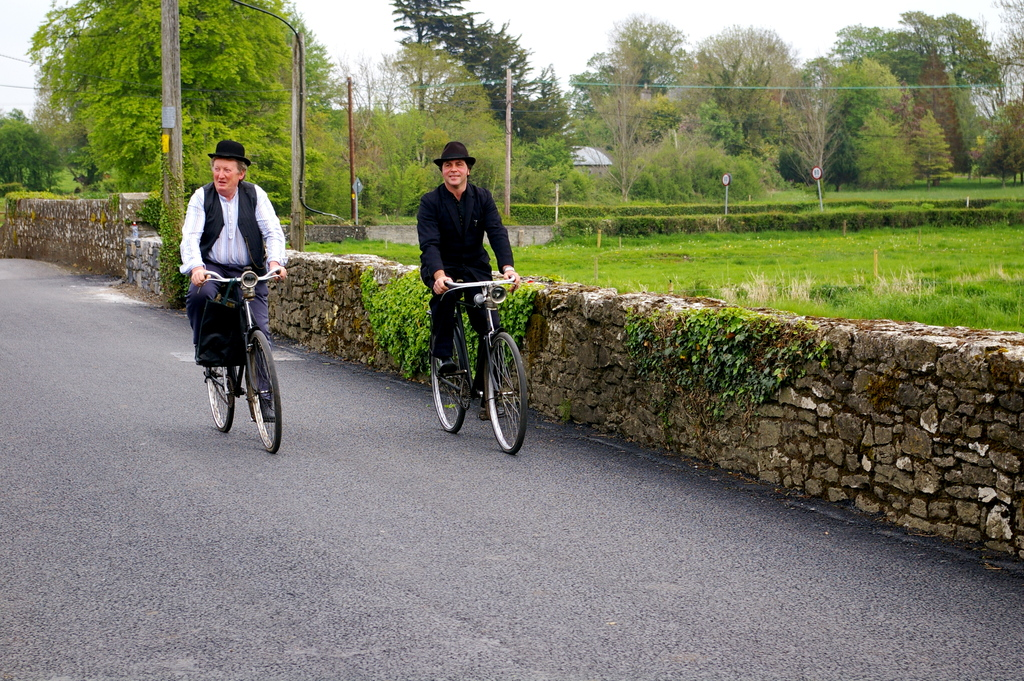Bike_toward: (184, 263, 304, 460), (426, 270, 532, 460)
